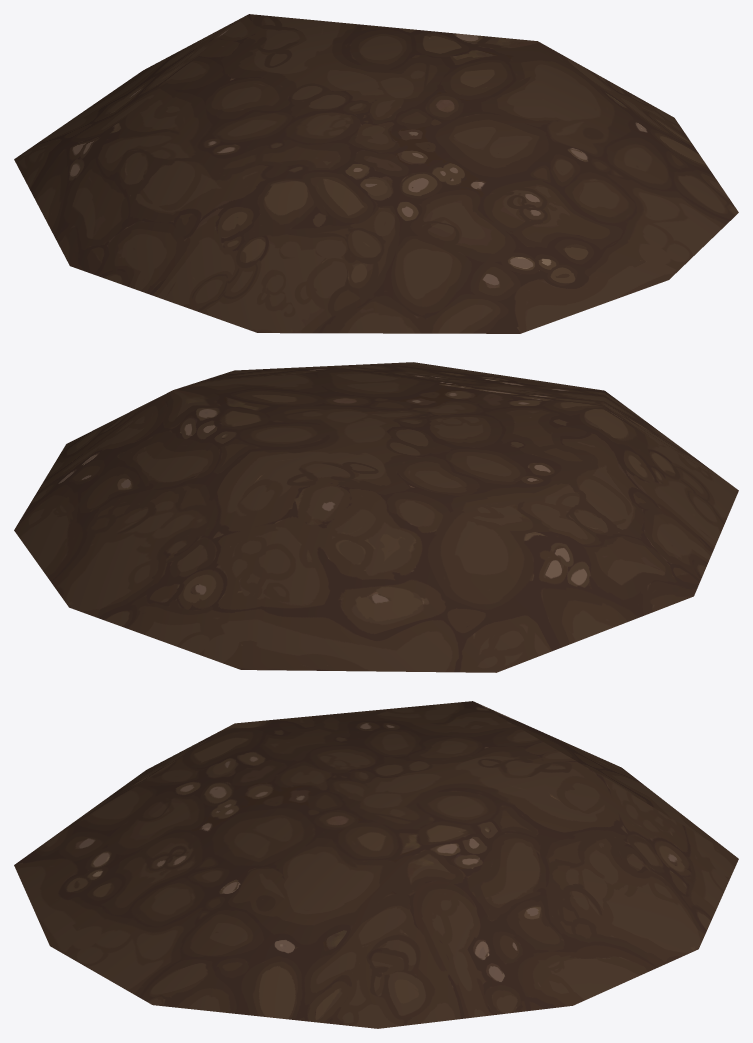
The model's file is SM_PROP_dirtpile_dungeon_01.fbx.
3 renders of one model, top to bottom at view 1: azimuth 30°, elevation 25°; view 2: azimuth 150°, elevation 25°; view 3: azimuth 270°, elevation 25°, orthographic. The views are drawn at different scales.
Parts seen in each view (by area): view 1: SM_PROP_dirtpile_dungeon_01; view 2: SM_PROP_dirtpile_dungeon_01; view 3: SM_PROP_dirtpile_dungeon_01.
Part boxes in pixels (x1,y1,x2,y2): SM_PROP_dirtpile_dungeon_01: (14, 14, 738, 333); SM_PROP_dirtpile_dungeon_01: (14, 362, 738, 672); SM_PROP_dirtpile_dungeon_01: (14, 701, 738, 1028).
Size of the model in its own units: 138 by 23.98 by 144.
